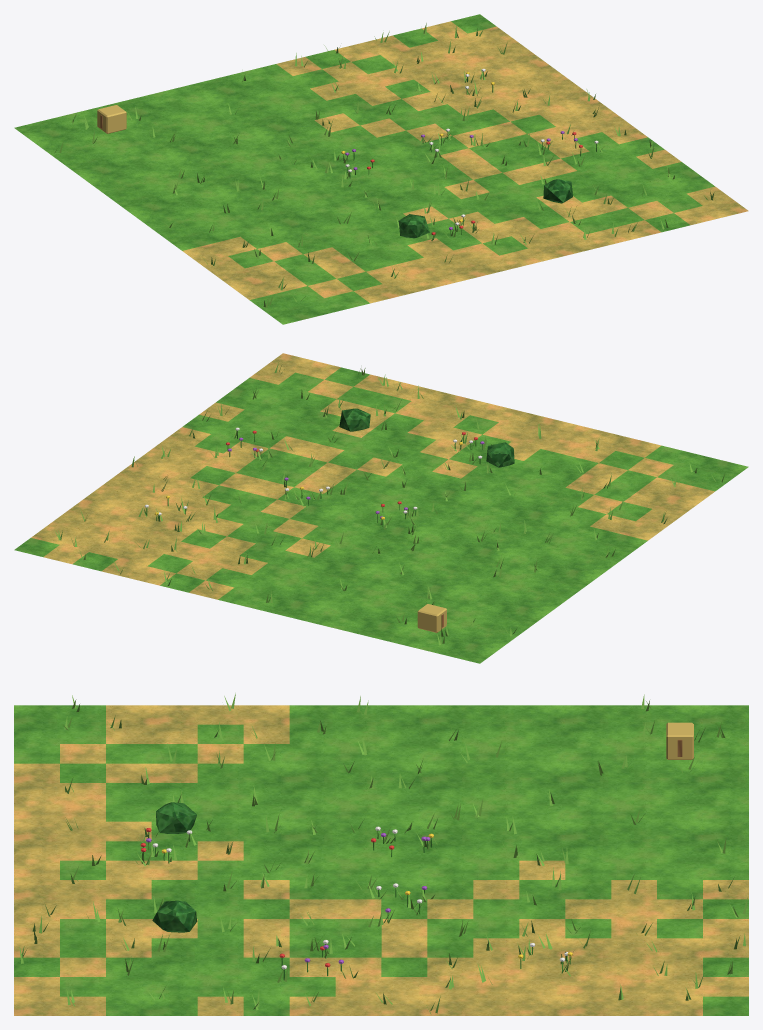
The model's file is chunk_10_8.glb.
The picture shows the model from 3 angles, top to bottom: view 1: azimuth 30°, elevation 25°; view 2: azimuth 150°, elevation 25°; view 3: azimuth 270°, elevation 25°; orthographic projection. The views are drawn at different scales.
Visible parts, largest first — view 1: chunk_10_8; view 2: chunk_10_8; view 3: chunk_10_8.
Part boxes in pixels (<box>): chunk_10_8: <box>14,14,748,324</box>; chunk_10_8: <box>14,353,748,663</box>; chunk_10_8: <box>14,693,748,1015</box>.
Size of the model in its own units: 16.01 by 0.8088 by 16.
Materials: 11 (5 with a texture image).
